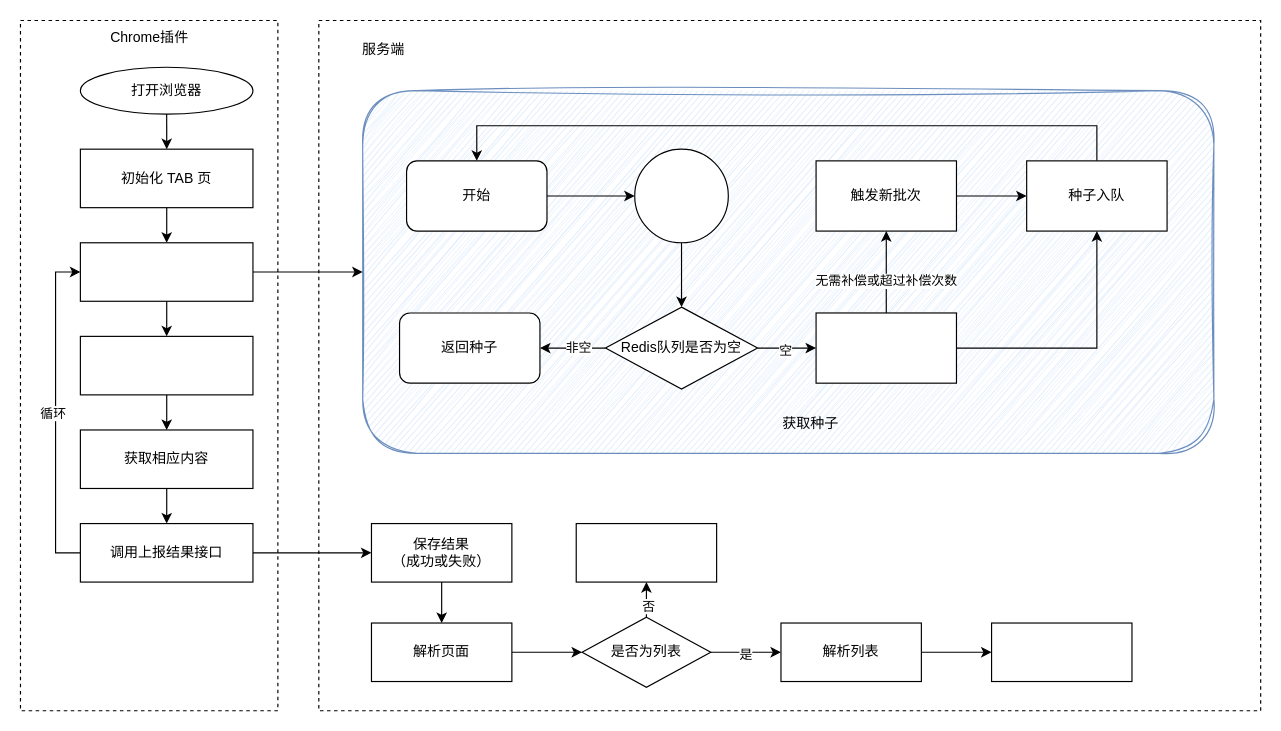
This 1281x731 diagram has some shape labels left out. Here are the shapes that lost their labels. From the top down, the centre of each, then its label:
the point at 681,195: Redis队列
the point at 166,271: 获取请求种子接口
the point at 166,365: 打开URL
the point at 885,347: 补偿机制 （3次，存量127次）
the point at 646,552: 保存解析结果
the point at 1061,652: 创建下一页任务&详情任务
